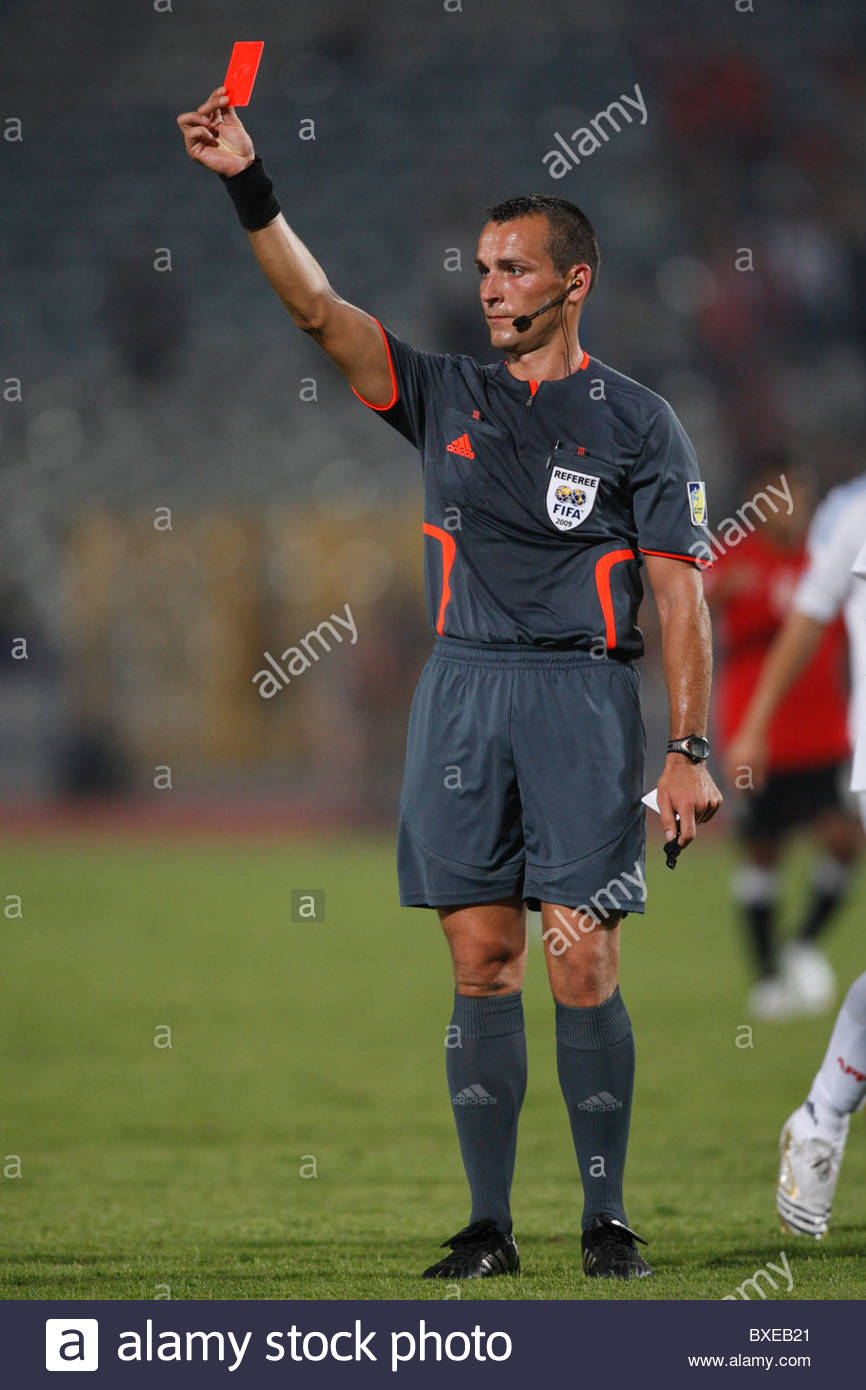red_card: (168, 27, 274, 181)
